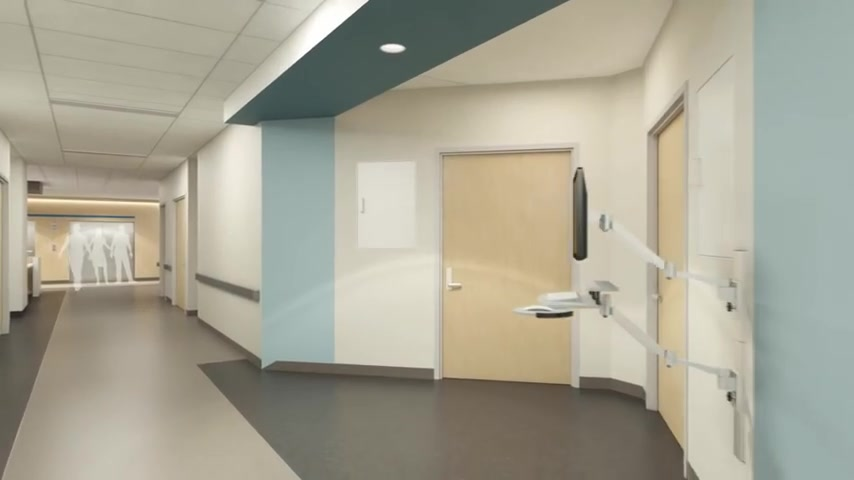computer: (572, 168, 591, 260)
door_handle: (651, 293, 663, 300), (447, 282, 461, 288)
hallway_assist_bar: (195, 273, 260, 303), (161, 263, 172, 272)
handle: (360, 197, 364, 214)
keyboard: (544, 292, 579, 301)
